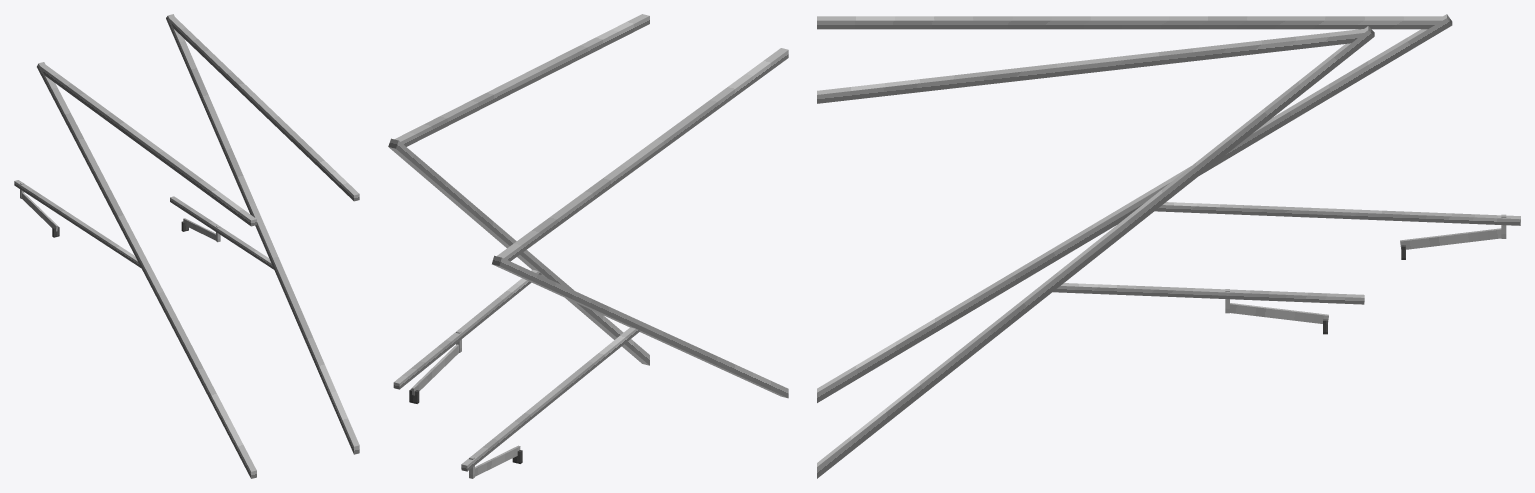
File: cantilever_center_16px.obj
3 views of the same model, side by side, from view 1: azimuth 30°, elevation 25°; view 2: azimuth 150°, elevation 25°; view 3: azimuth 270°, elevation 25° (orthographic). The views are drawn at different scales.
Visible parts, largest first — view 1: 2fa3d895-b249-44d3-a835-098237e1f859, 4525461e-ddaa-455e-905c-7b7b8754ff61, 4f30fc1a-5422-429d-b5a2-9d2c71f17266, 1194c5e3-1140-402a-87fe-553dc00a0617, 38cd9eed-bc8c-4f48-a212-820747012bbc, 737530a6-f4c5-43b1-b261-08db1e6b0b57; view 2: 4f30fc1a-5422-429d-b5a2-9d2c71f17266, 1194c5e3-1140-402a-87fe-553dc00a0617, 4525461e-ddaa-455e-905c-7b7b8754ff61, 2fa3d895-b249-44d3-a835-098237e1f859, 38cd9eed-bc8c-4f48-a212-820747012bbc, 737530a6-f4c5-43b1-b261-08db1e6b0b57, 288bc10a-a896-4b1f-b261-0f40a3610903, 2fb08768-3319-43b7-adb1-60193bc7a584; view 3: 2fa3d895-b249-44d3-a835-098237e1f859, 4f30fc1a-5422-429d-b5a2-9d2c71f17266, 4525461e-ddaa-455e-905c-7b7b8754ff61, 1194c5e3-1140-402a-87fe-553dc00a0617, 38cd9eed-bc8c-4f48-a212-820747012bbc, 737530a6-f4c5-43b1-b261-08db1e6b0b57, 2fb08768-3319-43b7-adb1-60193bc7a584, 288bc10a-a896-4b1f-b261-0f40a3610903.
Part boxes in pixels (x1,y1,x2,y2): 2fa3d895-b249-44d3-a835-098237e1f859: (166,14,359,454); 4525461e-ddaa-455e-905c-7b7b8754ff61: (37,62,256,478); 4f30fc1a-5422-429d-b5a2-9d2c71f17266: (40,64,256,226); 1194c5e3-1140-402a-87fe-553dc00a0617: (169,17,359,201); 38cd9eed-bc8c-4f48-a212-820747012bbc: (14,180,140,267); 737530a6-f4c5-43b1-b261-08db1e6b0b57: (170,196,273,269); 4f30fc1a-5422-429d-b5a2-9d2c71f17266: (497,48,788,261); 1194c5e3-1140-402a-87fe-553dc00a0617: (394,14,649,146); 4525461e-ddaa-455e-905c-7b7b8754ff61: (492,255,788,398); 2fa3d895-b249-44d3-a835-098237e1f859: (388,138,649,365); 38cd9eed-bc8c-4f48-a212-820747012bbc: (461,327,640,471); 737530a6-f4c5-43b1-b261-08db1e6b0b57: (393,269,541,389); 288bc10a-a896-4b1f-b261-0f40a3610903: (411,344,458,395); 2fb08768-3319-43b7-adb1-60193bc7a584: (475,445,520,476); 2fa3d895-b249-44d3-a835-098237e1f859: (817,26,1374,478); 4f30fc1a-5422-429d-b5a2-9d2c71f17266: (817,16,1442,29); 4525461e-ddaa-455e-905c-7b7b8754ff61: (817,14,1452,402); 1194c5e3-1140-402a-87fe-553dc00a0617: (817,28,1364,103); 38cd9eed-bc8c-4f48-a212-820747012bbc: (1155,202,1520,225); 737530a6-f4c5-43b1-b261-08db1e6b0b57: (1053,283,1364,304); 2fb08768-3319-43b7-adb1-60193bc7a584: (1400,228,1501,249); 288bc10a-a896-4b1f-b261-0f40a3610903: (1230,303,1328,323).
Bounding box in the file's own units: 1.19 × 3.17 × 4.5.
